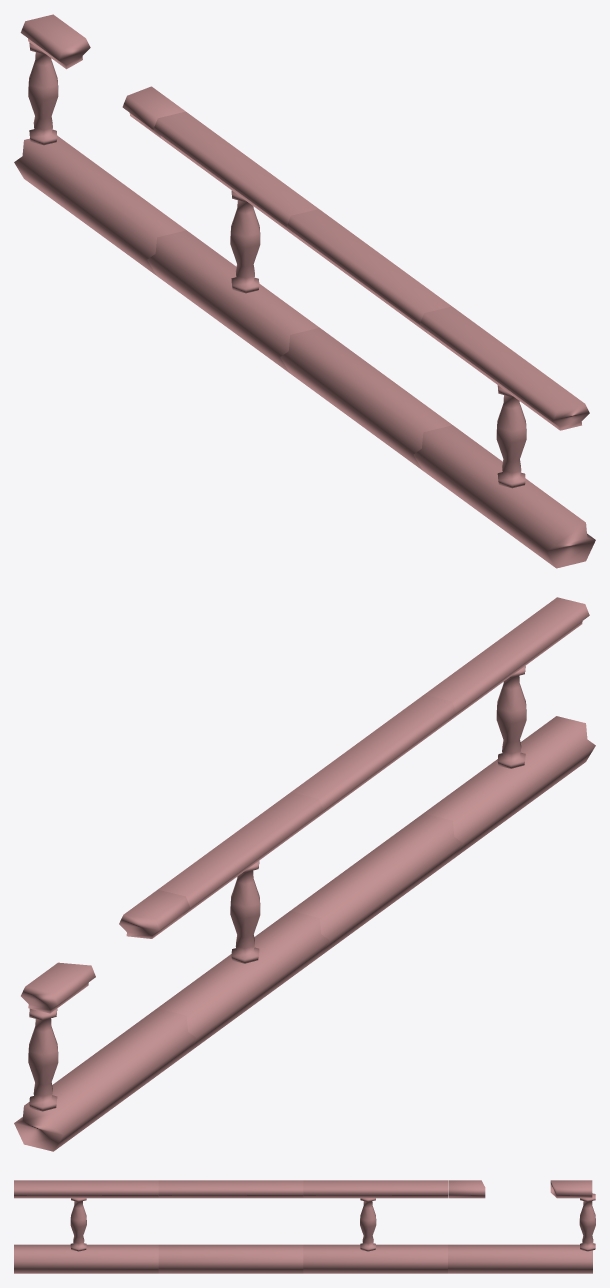
File: Stone_Baluster_01_Lod1.fbx
The picture shows the model from 3 angles, top to bottom: view 1: azimuth 30°, elevation 25°; view 2: azimuth 150°, elevation 25°; view 3: azimuth 270°, elevation 25°; orthographic projection. The views are drawn at different scales.
Parts seen in each view (by area): view 1: Stone_Baluster_01_Lod1; view 2: Stone_Baluster_01_Lod1; view 3: Stone_Baluster_01_Lod1.
Boxes of the visible parts, bbox=[...] form: Stone_Baluster_01_Lod1: bbox=[14, 14, 595, 568]; Stone_Baluster_01_Lod1: bbox=[14, 597, 595, 1151]; Stone_Baluster_01_Lod1: bbox=[14, 1180, 595, 1273].
Size of the model in its own units: 32.21 by 98.03 by 603.
